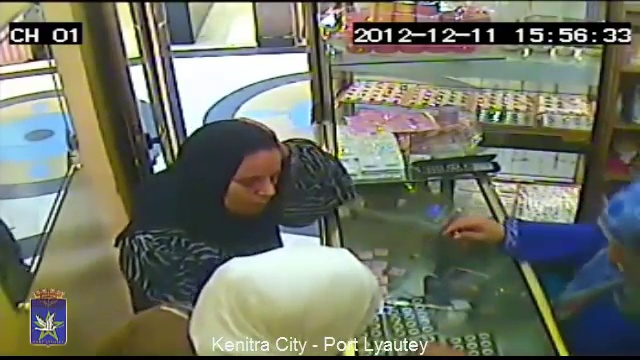face: (224, 156, 279, 215)
